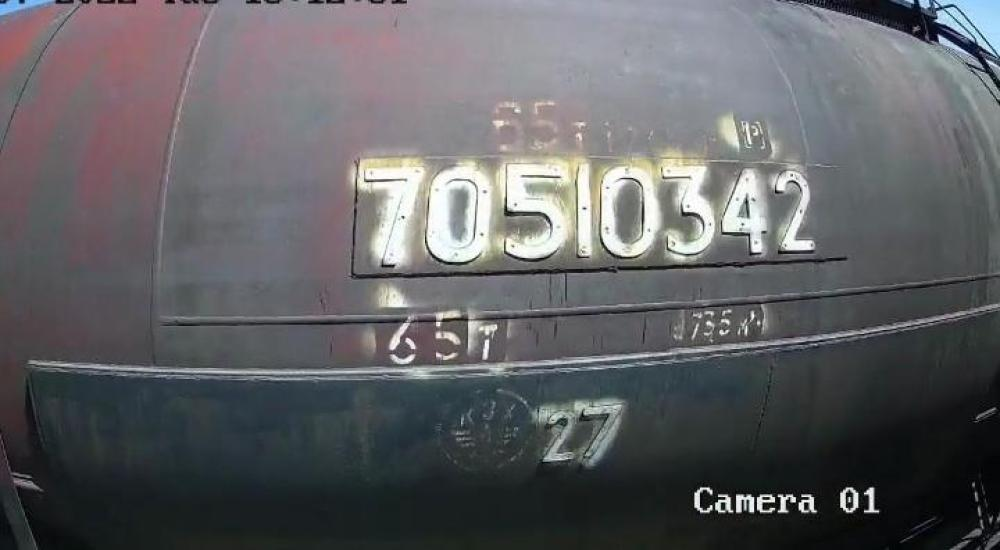Wagon-number: (363, 161, 825, 263)
